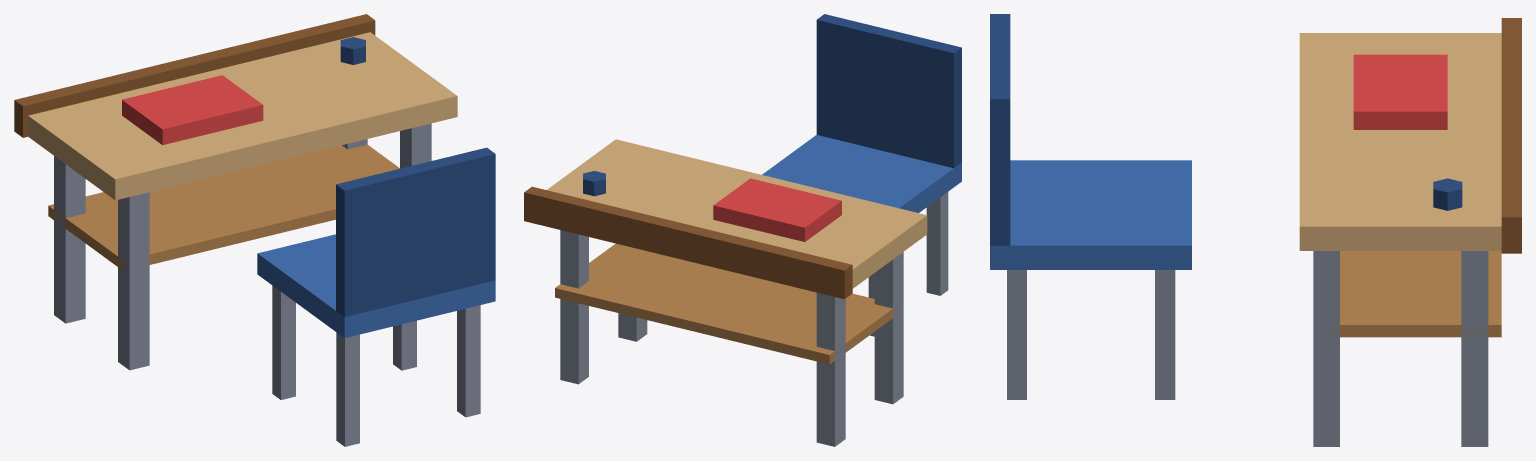
Rendered from desk.glb.
3 renders of one model, left to right at view 1: azimuth 30°, elevation 25°; view 2: azimuth 150°, elevation 25°; view 3: azimuth 270°, elevation 25°, orthographic. The views are drawn at different scales.
Visible parts, largest first — view 1: desk; view 2: desk; view 3: desk.
Boxes of the visible parts, x1,y1,x2,y2 form: desk: (14,14,495,446); desk: (524,14,961,446); desk: (990,14,1521,446).
Size of the model in its own units: 0.7 by 0.5 by 0.79.
Materials: 1 (1 with a texture image).
